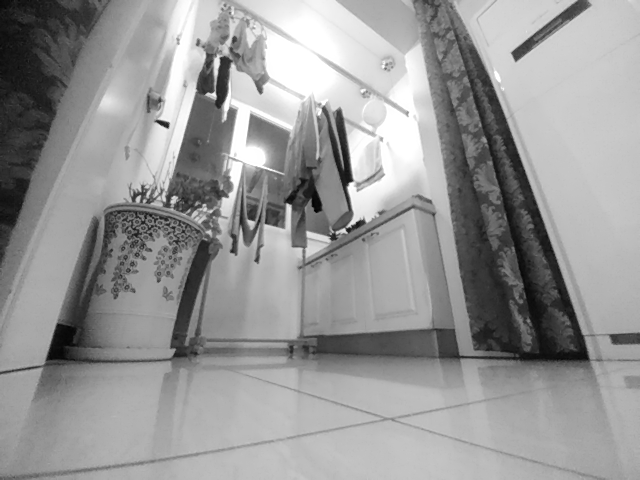curtain: (411, 1, 590, 363)
